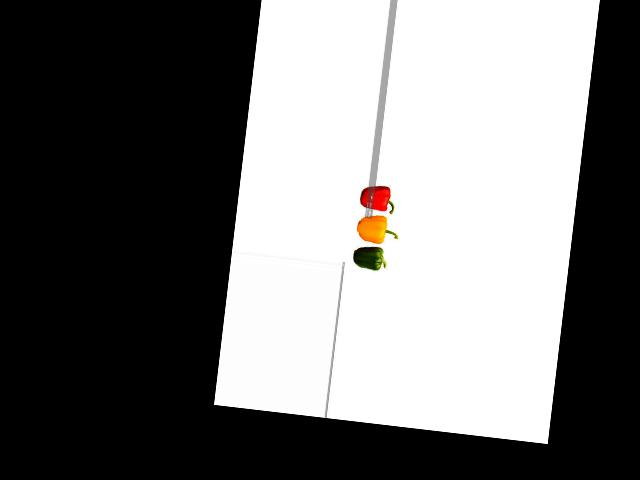bell_pepper: (349, 245, 392, 275)
